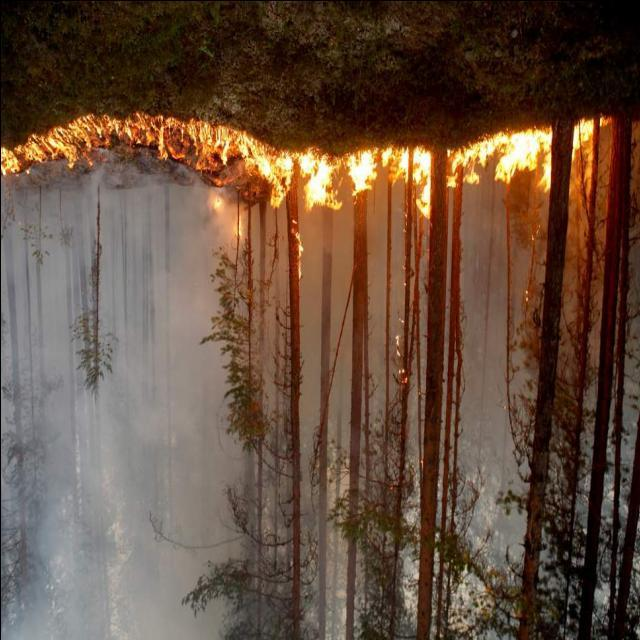Fire: (0, 105, 616, 228)
